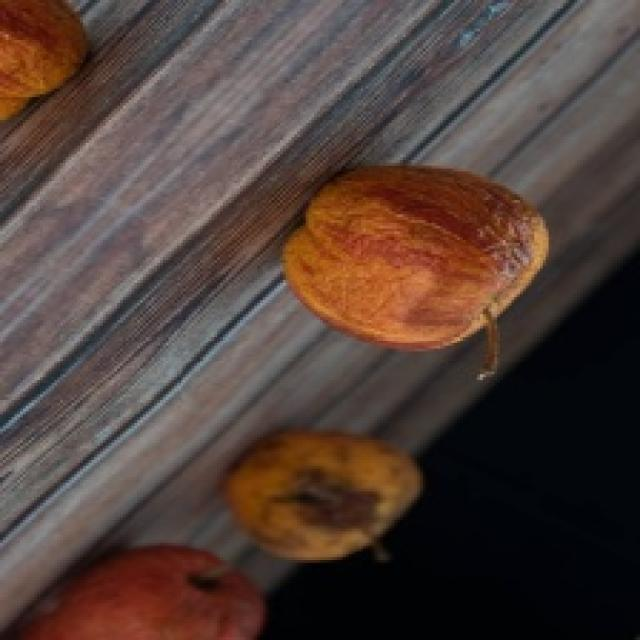rotten_apple: (286, 172, 545, 343), (230, 437, 421, 559), (0, 0, 83, 91)
